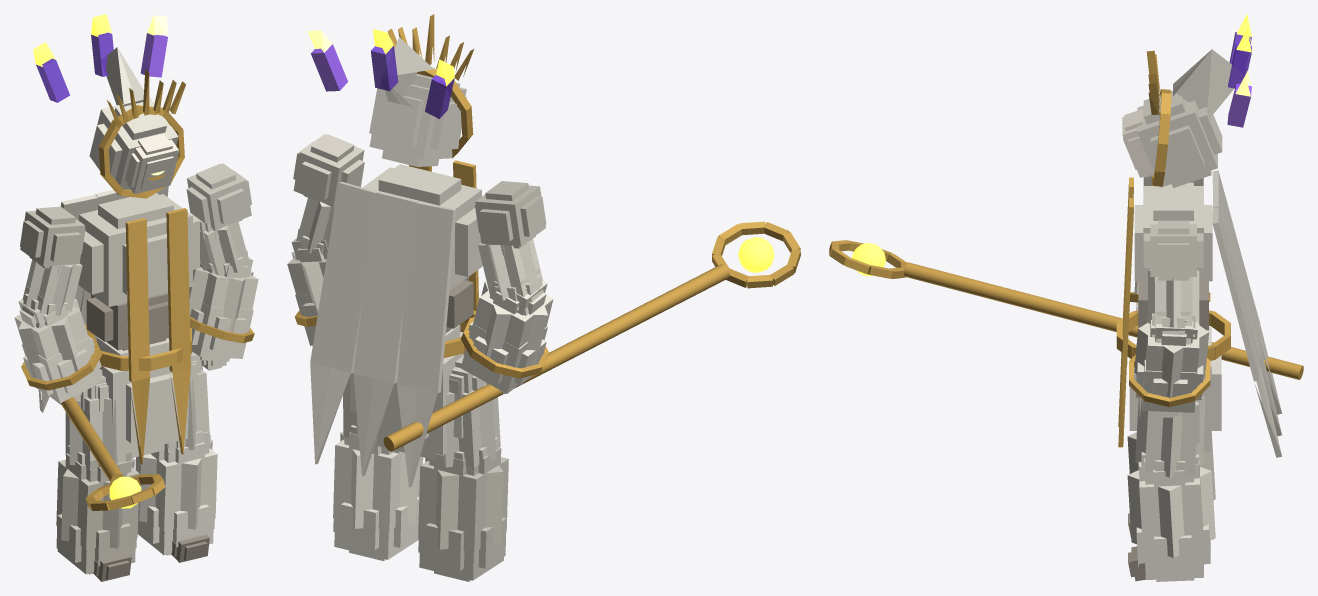
3 renders of one model, left to right at view 1: azimuth 30°, elevation 25°; view 2: azimuth 150°, elevation 25°; view 3: azimuth 270°, elevation 25°, orthographic. The views are drawn at different scales.
Visible parts, largest first — view 1: RiftOracle; view 2: RiftOracle; view 3: RiftOracle.
Part boxes in pixels (x1,y1,x2,y2): RiftOracle: [14, 14, 258, 581]; RiftOracle: [287, 14, 800, 581]; RiftOracle: [829, 14, 1303, 581].
Size of the model in its own units: 1.03 by 1.62 by 1.33.
